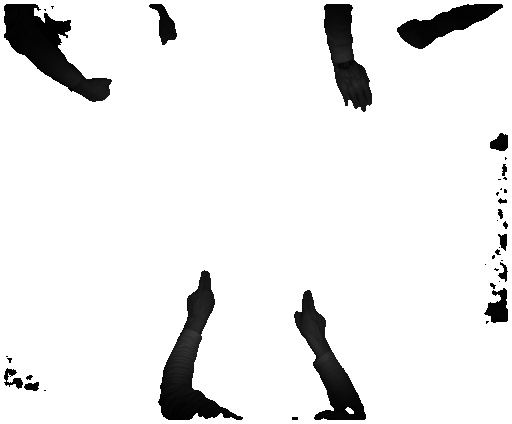fist: (392, 20, 435, 55), (80, 74, 111, 103), (159, 19, 183, 47)
hand: (288, 288, 334, 346), (184, 264, 215, 325), (335, 67, 375, 111)
